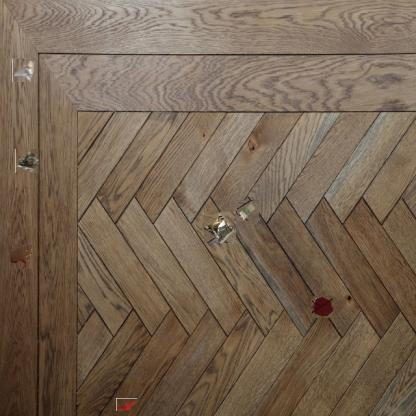dirty: (204, 211, 236, 243), (15, 149, 40, 173), (12, 58, 37, 82), (237, 199, 259, 221), (116, 398, 137, 411)
liquid: (8, 245, 34, 269), (312, 296, 334, 318)
